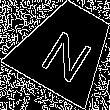N_NE: (34, 17, 97, 81)
